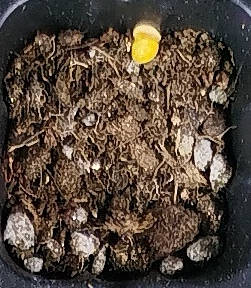pepper seed: (52, 1, 212, 65), (52, 3, 214, 47)
